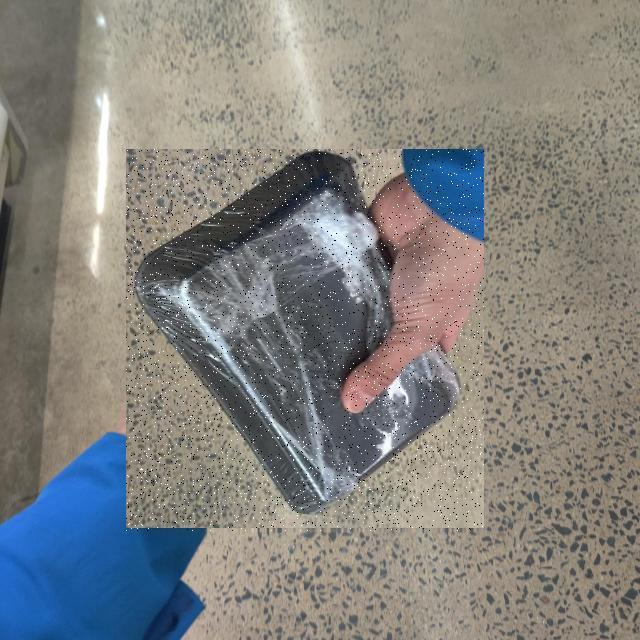Meat: (126, 150, 484, 532)
